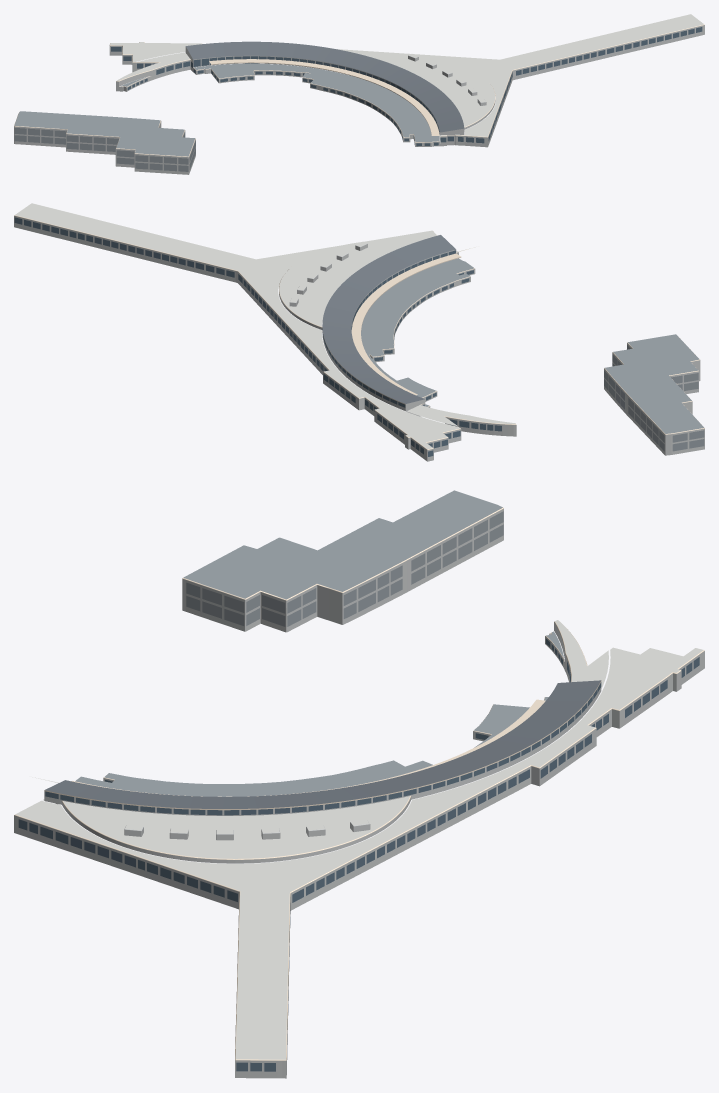
Rendered from nyc-jfk-terminal-5.glb.
3 renders of one model, top to bottom at view 1: azimuth 30°, elevation 25°; view 2: azimuth 150°, elevation 25°; view 3: azimuth 270°, elevation 25°, orthographic. The views are drawn at different scales.
Visible parts, largest first — view 1: JFK Airport Terminal 5; view 2: JFK Airport Terminal 5; view 3: JFK Airport Terminal 5.
Part boxes in pixels (bbox=[...]): JFK Airport Terminal 5: bbox=[14, 14, 704, 174]; JFK Airport Terminal 5: bbox=[14, 203, 704, 461]; JFK Airport Terminal 5: bbox=[14, 490, 704, 1078].
Size of the model in its own units: 730 by 20 by 384.
